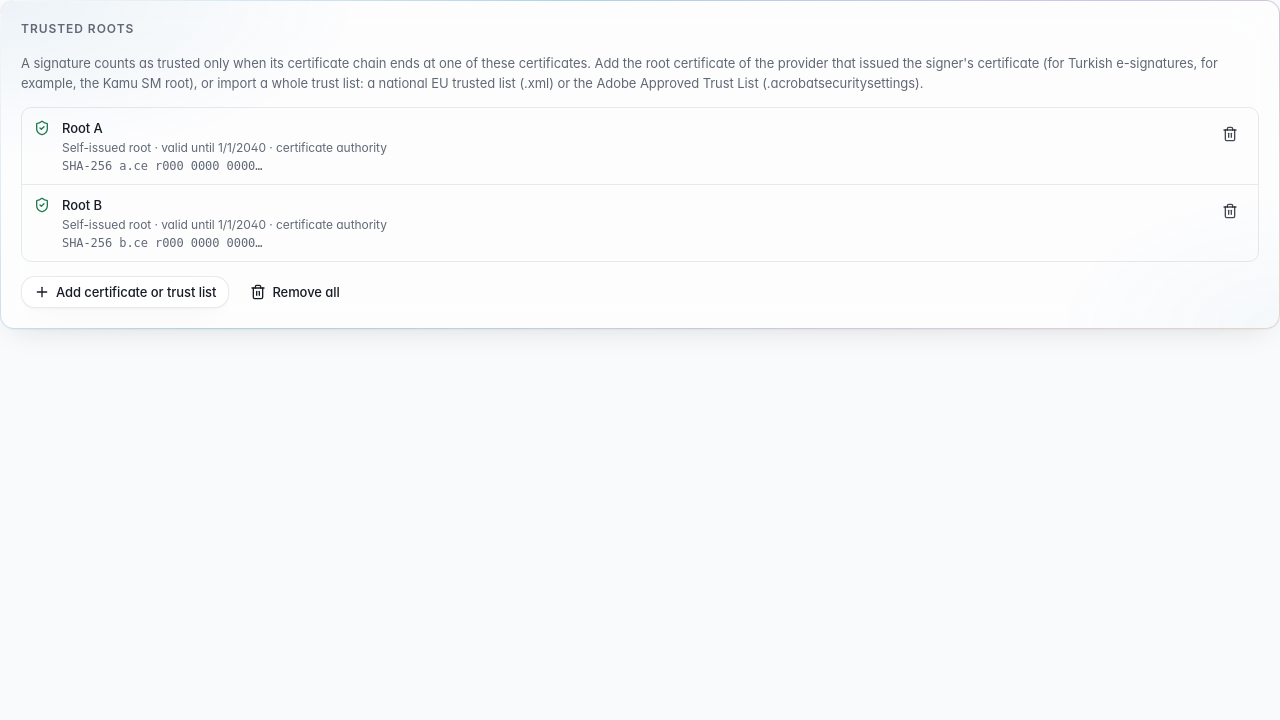
Scenario: TrustRootsSection › names Adobe's built-in certificate for a verified Adobe list and keeps the EU wording for EU lists
Expected: the text "Root A" is shown, 62,120 -> 103,136
What coordinates should you click on to do the following:
click the button "Add certificate or trust list"
I would click on:
 (125, 292)
Its box is 21,276 -> 229,308.
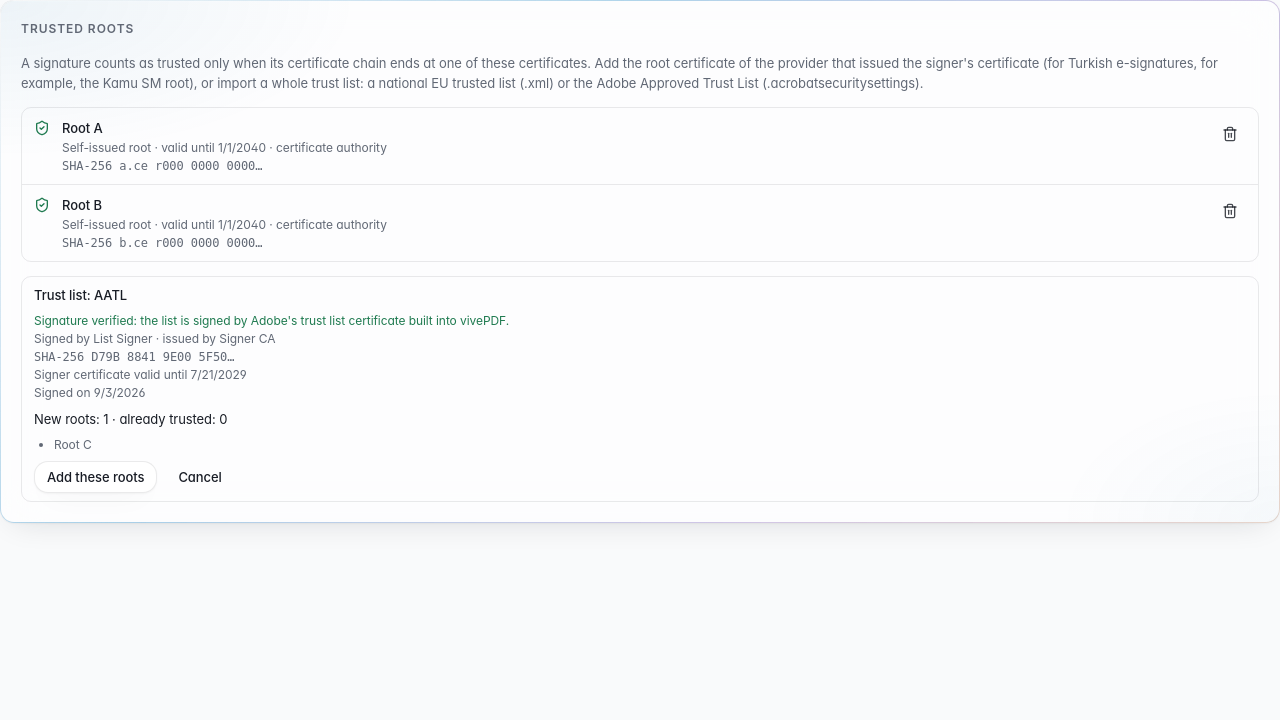
Expected: the button "Add these roots" is enabled, 34,461 -> 157,493
Result: the element named "Review before adding" shows "Signature verified: the list is signed by Adobe's trust list certificate built into vivePDF." at 34,313 -> 509,328
What coordinates should you click on to do the following:
click the button "Cancel"
I would click on:
 (200, 477)
Its box is 165,461 -> 235,493.
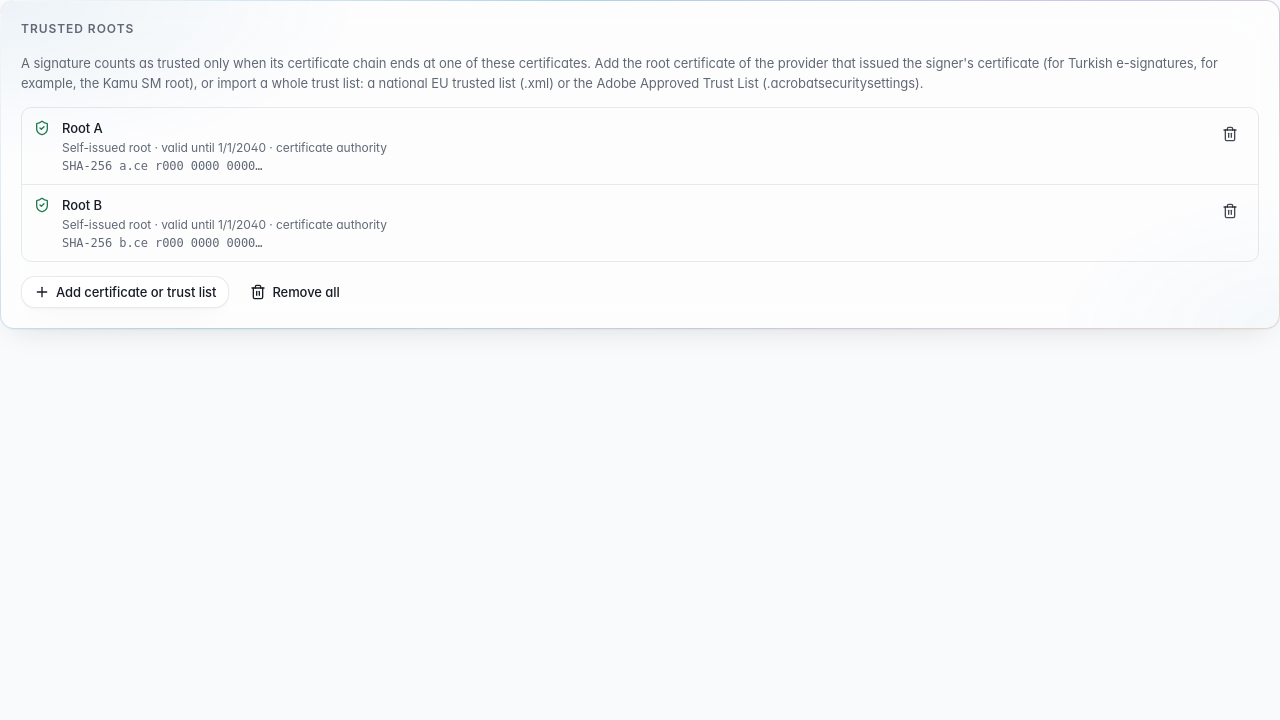
What coordinates should you click on to do the following:
click the button "Add certificate or trust list"
I would click on:
 (125, 292)
Its box is 21,276 -> 229,308.
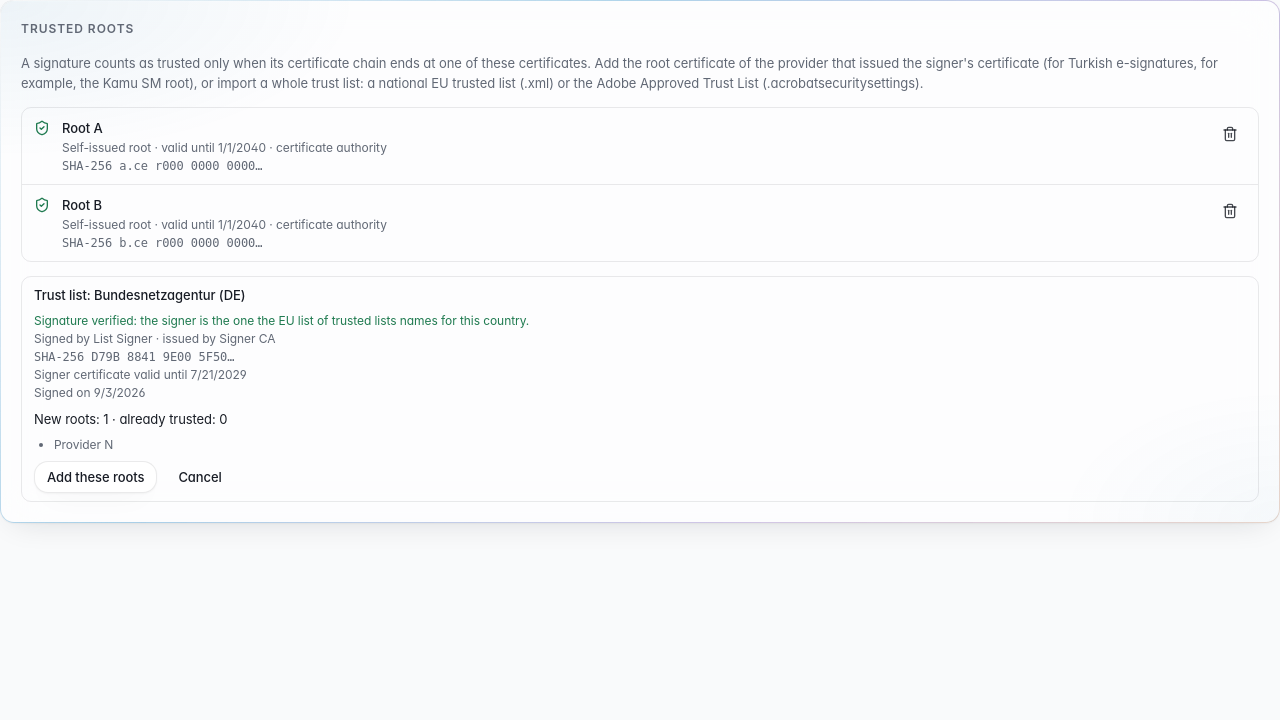
Result: the element named "Review before adding" shows "the signer is the one the EU list of trusted lists names for this country." at 34,313 -> 529,328
